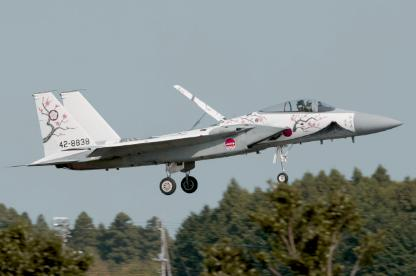F117: (2, 83, 404, 193)
